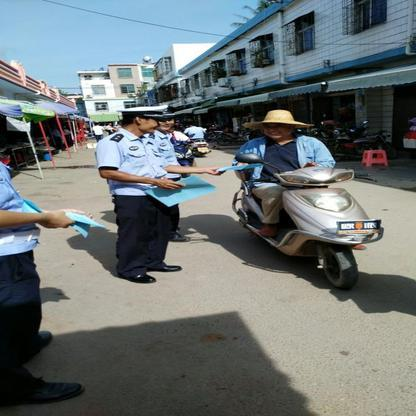target: (228, 106, 386, 288)
